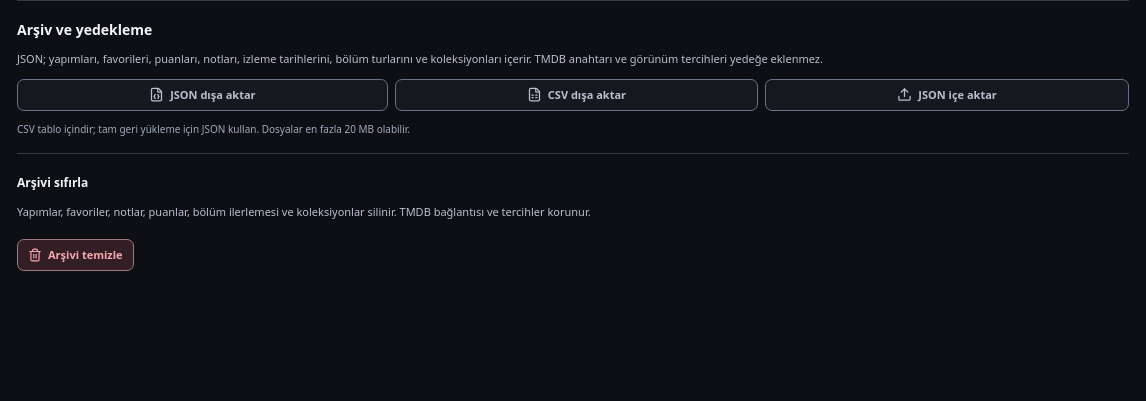
it: sıfırlama yalnızca son onayda boş arşivi gönderir
Step 1. Click the button "Arşivi temizle" → (75, 255), box [17,239,134,271]
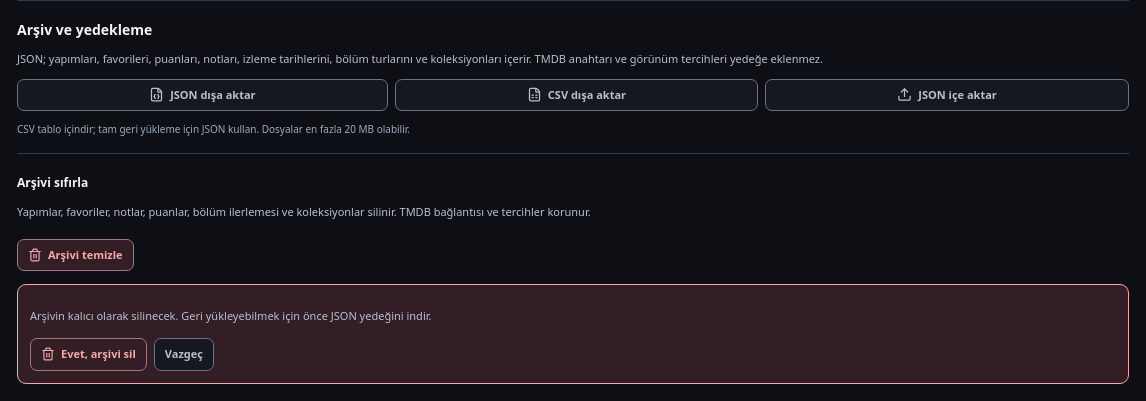
Step 2. Click the button "Evet, arşivi sil" → (88, 354), box [30,338,147,371]
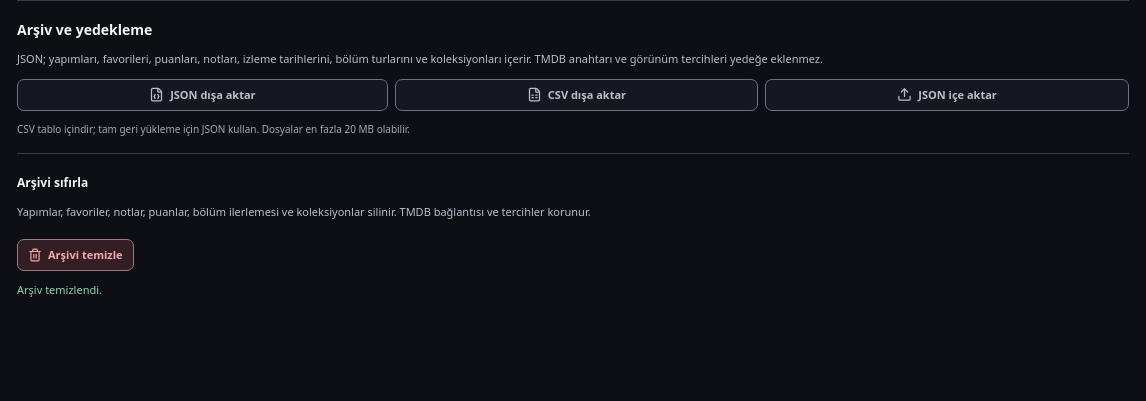
Now the text "Arşiv temizlendi." is shown, box [17,282,102,297]
